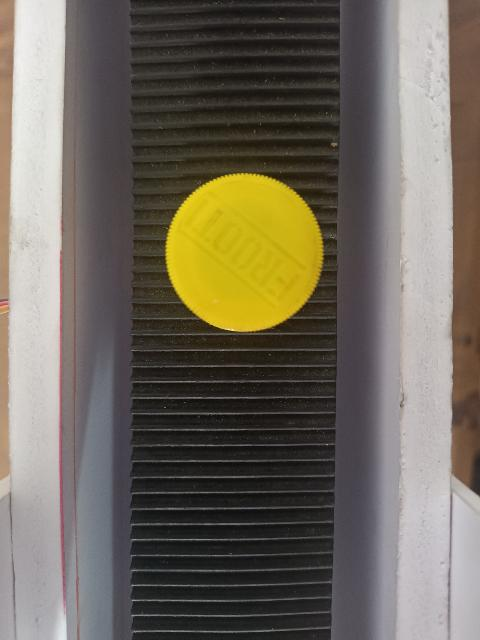bottlecap: (163, 168, 327, 336)
